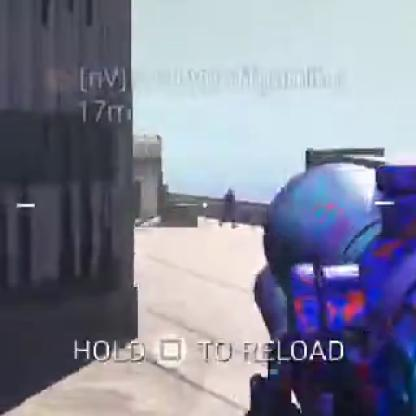enemy: (218, 187, 238, 226)
